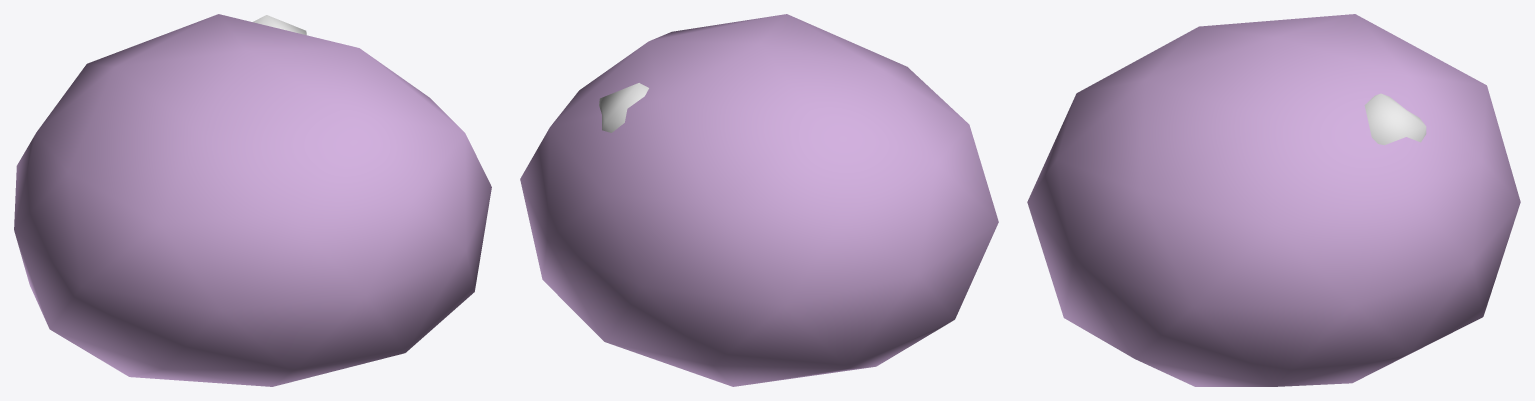
File: glimmer_dust.glb
3 renders of one model, left to right at view 1: azimuth 30°, elevation 25°; view 2: azimuth 150°, elevation 25°; view 3: azimuth 270°, elevation 25°, orthographic. The views are drawn at different scales.
Parts seen in each view (by area): view 1: glimmer_dust_v0; view 2: glimmer_dust_v0; view 3: glimmer_dust_v0.
Part boxes in pixels (x1,y1,x2,y2): glimmer_dust_v0: [14, 14, 491, 386]; glimmer_dust_v0: [520, 14, 998, 386]; glimmer_dust_v0: [1027, 14, 1520, 386].
Bounding box in the file's own units: 0.2306 × 0.1674 × 0.2318.
